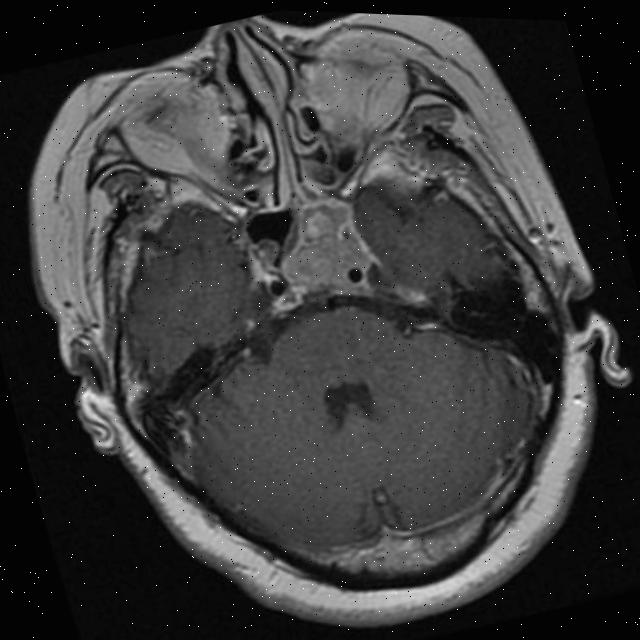Pituitary: (276, 232, 351, 300)
